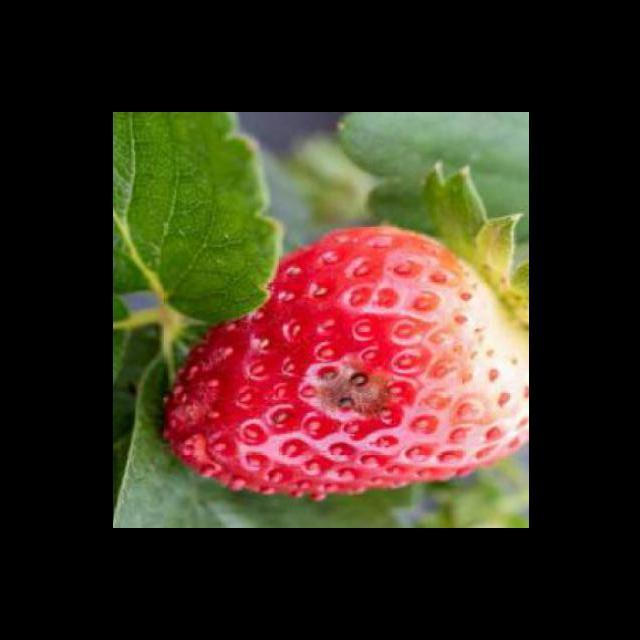Anthracnose Fruit Rot: (300, 344, 415, 440)
